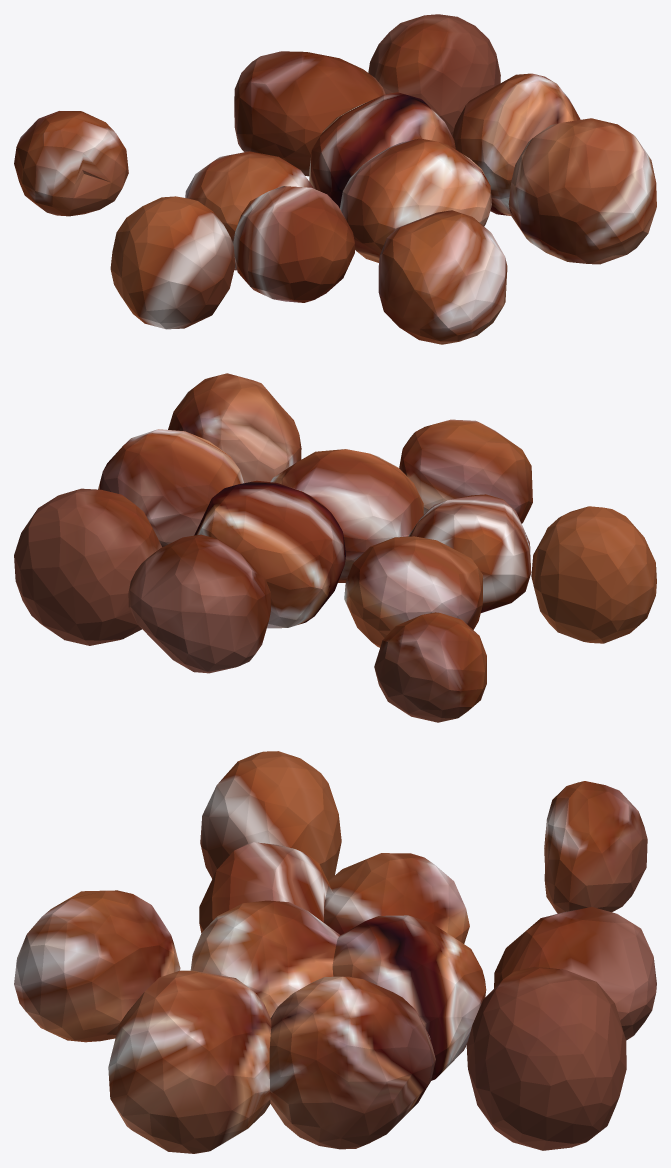
Rendered from MaltesersB.fbx.
3 views of the same model, one above another, from view 1: azimuth 30°, elevation 25°; view 2: azimuth 150°, elevation 25°; view 3: azimuth 270°, elevation 25° (orthographic). The views are drawn at different scales.
Visible parts, largest first — view 1: Mesh1.0; view 2: Mesh1.0; view 3: Mesh1.0.
Part boxes in pixels (x1=…): Mesh1.0: x1=14, y1=14, x2=656, y2=344; Mesh1.0: x1=14, y1=373, x2=656, y2=722; Mesh1.0: x1=14, y1=751, x2=656, y2=1153.
Bounding box in the file's own units: 190 × 50.97 × 175.
Materials: 1 (1 with a texture image).
